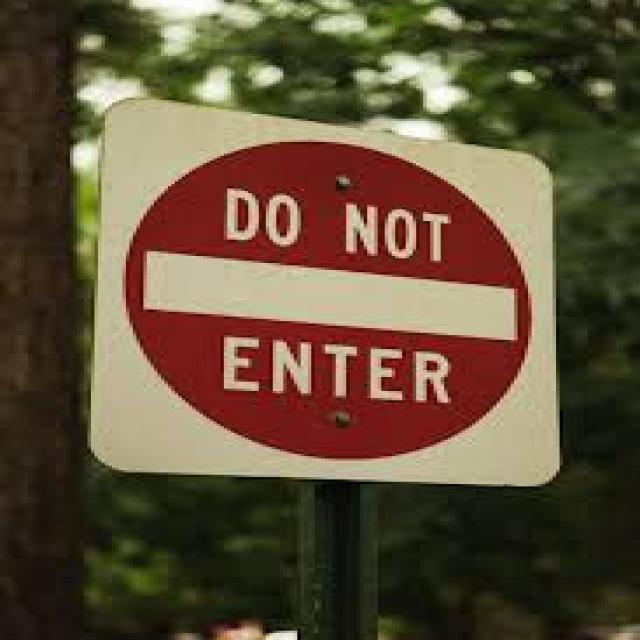doNotEnter: (103, 120, 553, 468)
